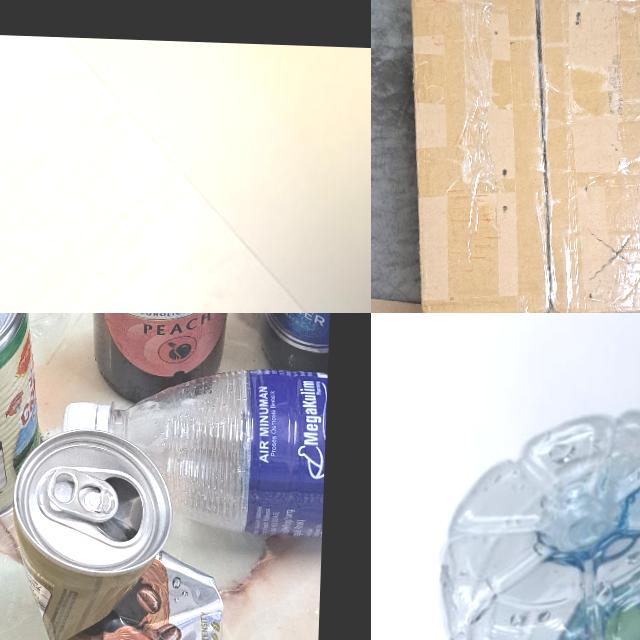aba de lata: (45, 468, 118, 524)
garrafa de vidro: (75, 313, 244, 404)
garrafa plástica: (432, 399, 640, 640), (61, 360, 327, 536)
lata: (7, 426, 228, 640)
papel: (0, 28, 350, 313)
papelão: (390, 0, 640, 313)
tampa plástica: (65, 397, 110, 433)
